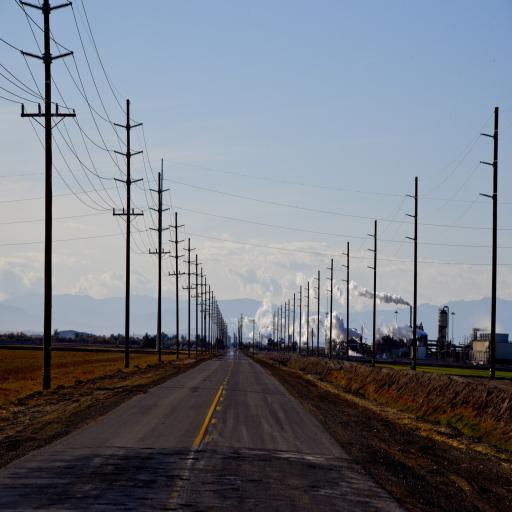Light-pole: (26, 0, 71, 383), (474, 88, 510, 361), (107, 78, 139, 364), (403, 160, 426, 345), (148, 160, 168, 355), (364, 215, 386, 342), (169, 198, 183, 357), (340, 230, 356, 345), (311, 268, 325, 350), (327, 248, 338, 349), (191, 244, 202, 345), (184, 235, 193, 354), (303, 277, 314, 345)
